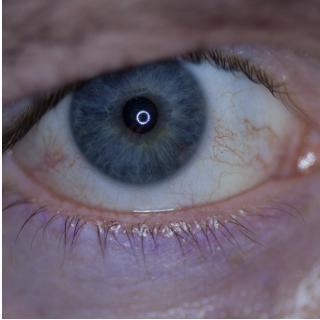pupil: (120, 95, 159, 134)
